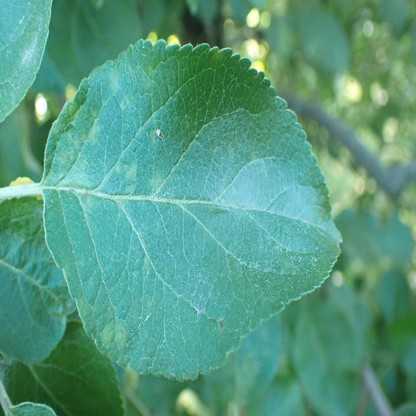powdery_mildew: (21, 33, 39, 66)
scab: (82, 109, 101, 143), (101, 319, 125, 345), (60, 137, 79, 163), (124, 161, 136, 180), (77, 297, 89, 315), (108, 71, 117, 90), (79, 193, 92, 205), (153, 172, 162, 188), (217, 319, 225, 334), (120, 95, 128, 109), (143, 254, 150, 269), (212, 51, 222, 61), (151, 127, 157, 143), (115, 161, 120, 174)
